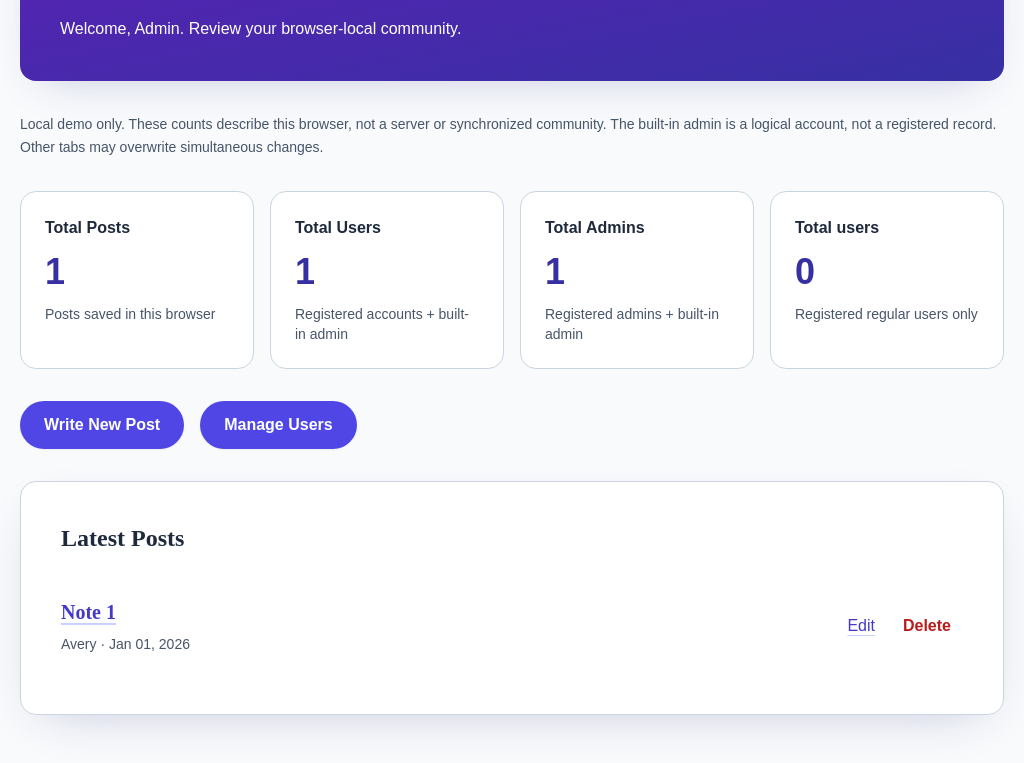
Test: dashboard post deletion handles cancel without false success
(page scrolled)
Click the button with aria-label "Delete post: Note 1" at (927, 626), box [891,604,963,648]
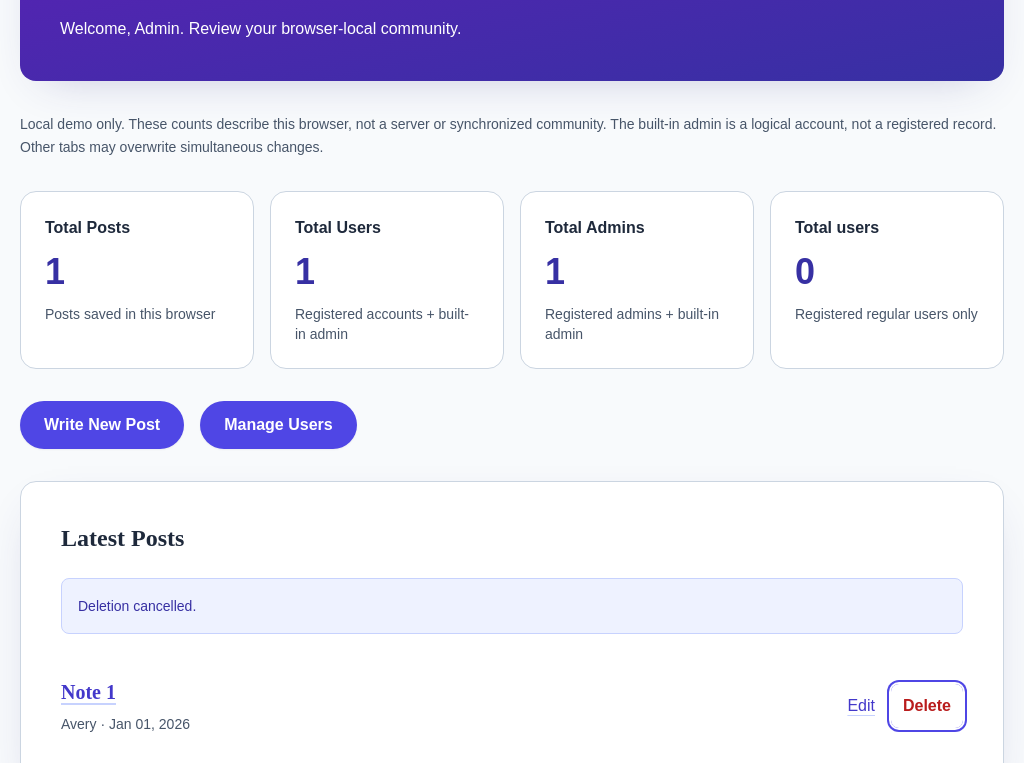
Check: the text "1" below "Total Posts" is shown, box [45,250,65,292]
Check: the message "Deletion cancelled." is shown, box [61,578,963,634]
